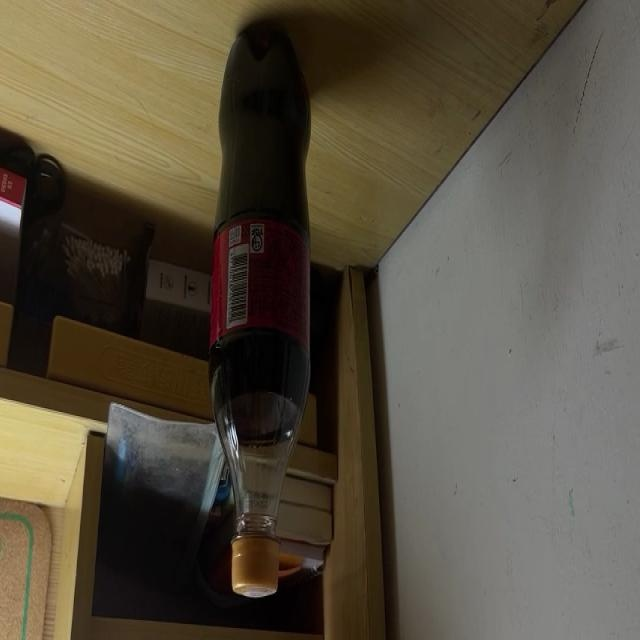Coca-Cola: (209, 27, 311, 600)
